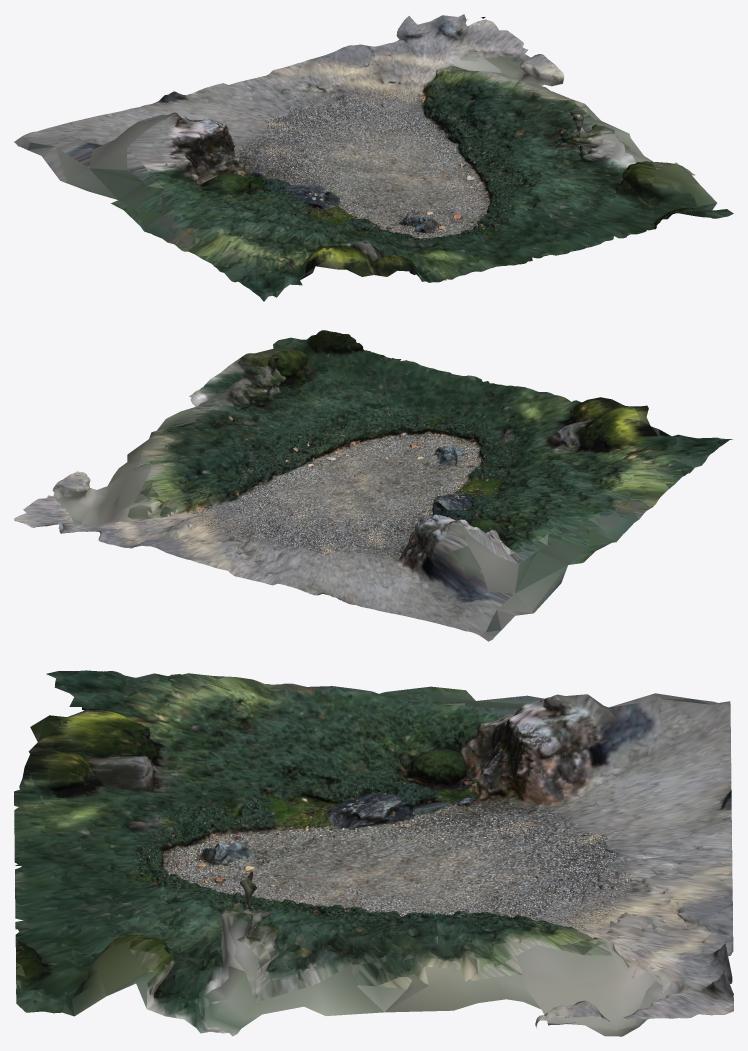
File: white_gravel_compressed.glb
3 renders of one model, top to bottom at view 1: azimuth 30°, elevation 25°; view 2: azimuth 150°, elevation 25°; view 3: azimuth 270°, elevation 25°, orthographic. The views are drawn at different scales.
Visible parts, largest first — view 1: Mesh_0; view 2: Mesh_0; view 3: Mesh_0.
Boxes of the visible parts, bbox=[...] form: Mesh_0: bbox=[14, 14, 733, 301]; Mesh_0: bbox=[14, 330, 732, 641]; Mesh_0: bbox=[14, 670, 733, 1036].
Bounding box in the file's own units: 16.53 × 2.74 × 15.51.
Materials: 1 (1 with a texture image).
